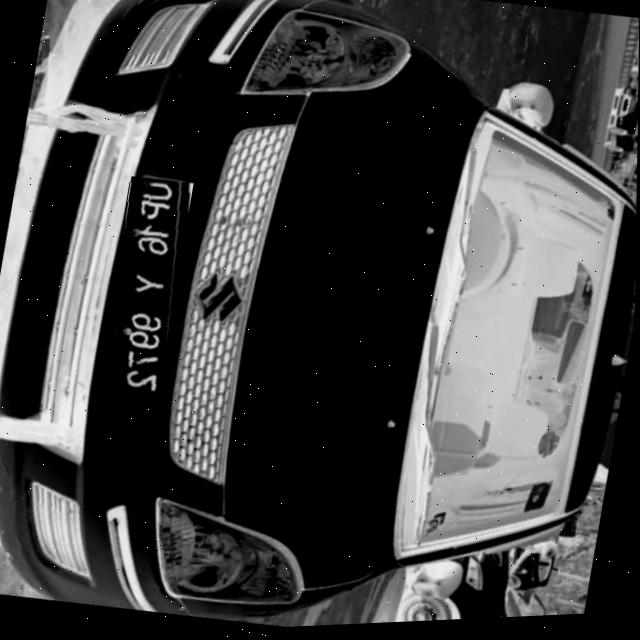Non_registered: (91, 175, 193, 412)
